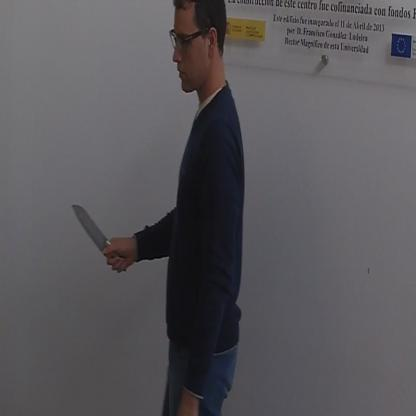knife: (69, 197, 124, 273)
